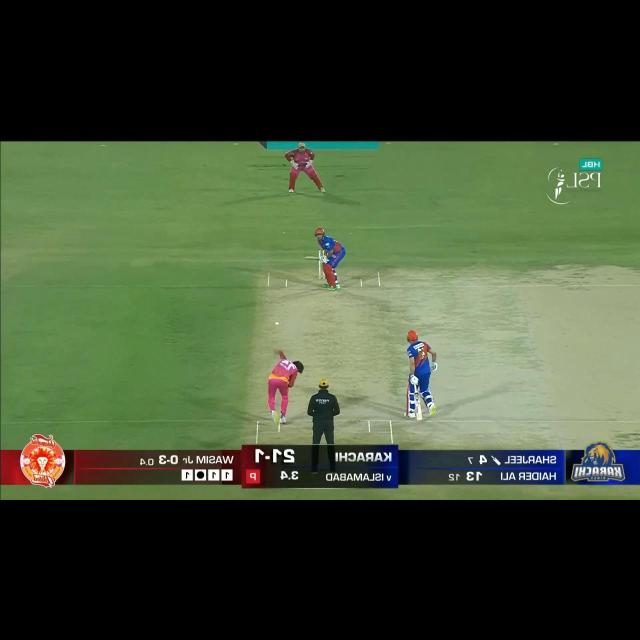bat: (413, 392, 424, 420), (303, 254, 322, 261)
toe: (414, 412, 423, 420), (302, 254, 308, 261)
